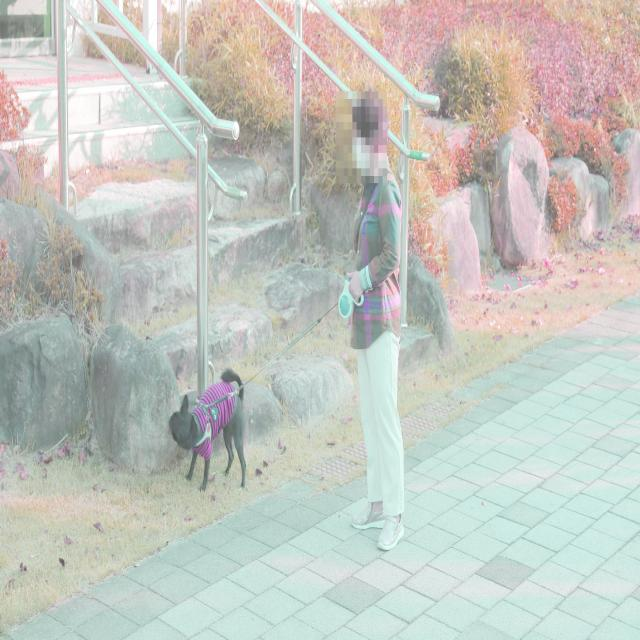Leashed_Dog: (168, 270, 370, 492)
